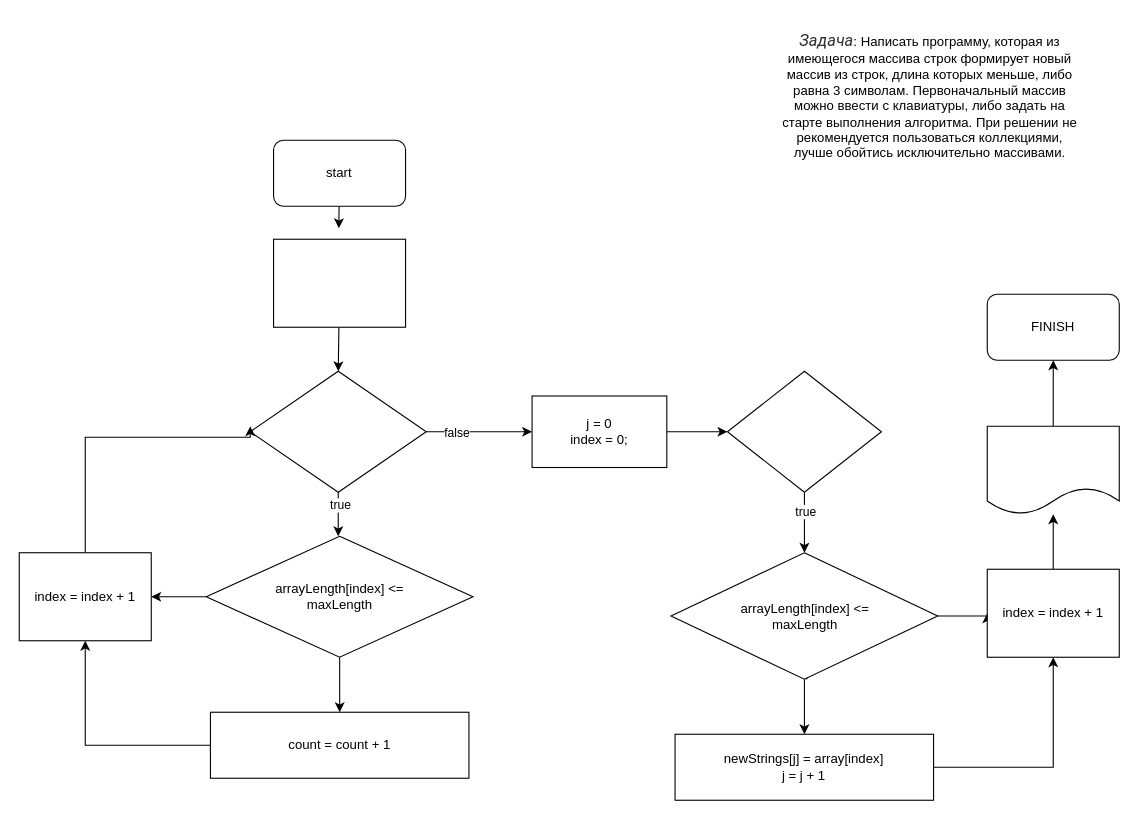
This 1139x820 diagram has some shape labels left out. The shapes that lost their labels are listed below. From the top down, each one's centre as x and y in pixels, then its label:
At (339,282): "array[] count = 0 index = 0 maxLength = 3 size = array[]".
At (337,431): "index < size".
At (803,431): "index < array[size]".
At (1052,469): "newString".
